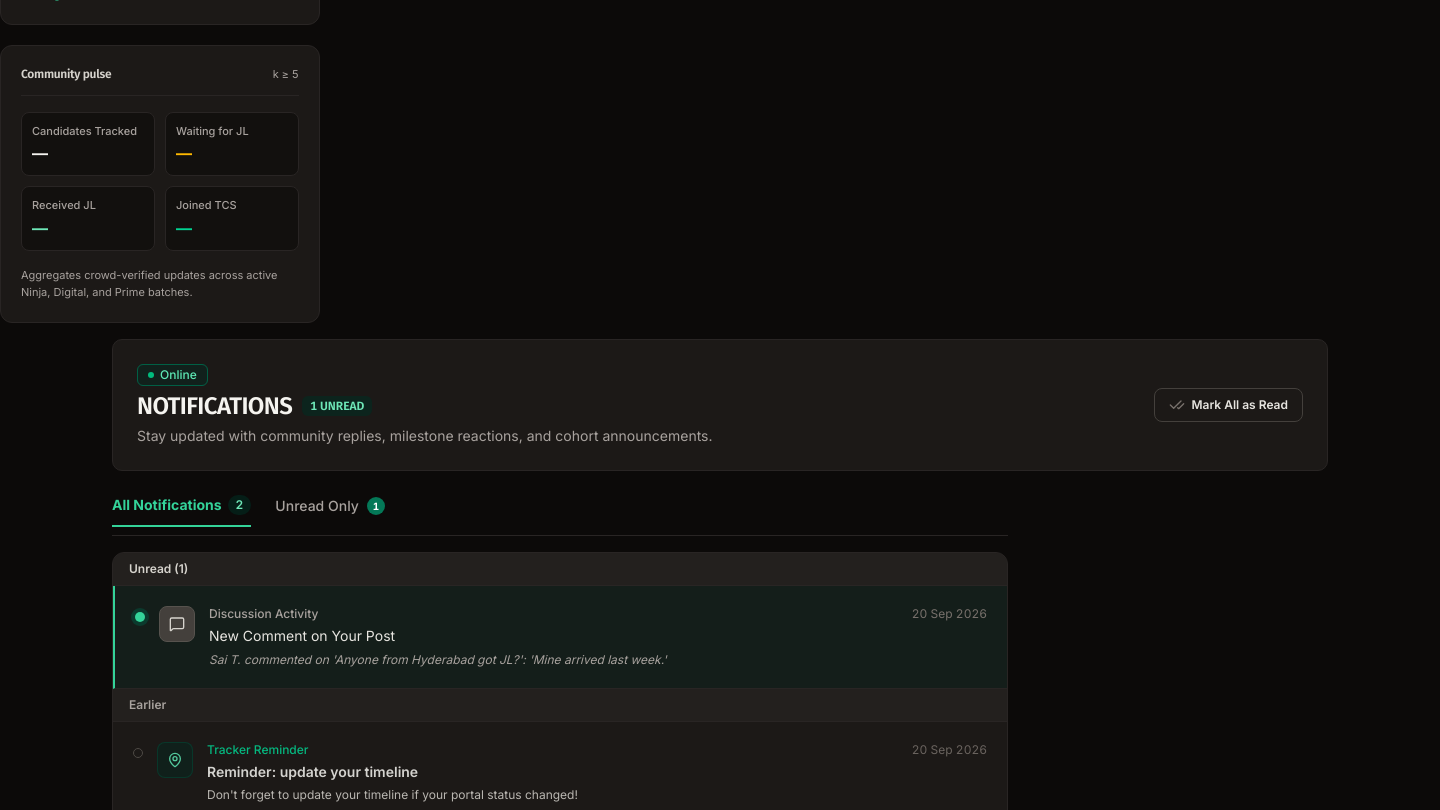
Scenario: §7.10 NotificationsPage (notification_center composition) › restores the count when Mark All as Read fails
(page scrolled)
Click the button with test id "mark-all-read". click: (1229, 405)
box: [1154,388,1303,422]
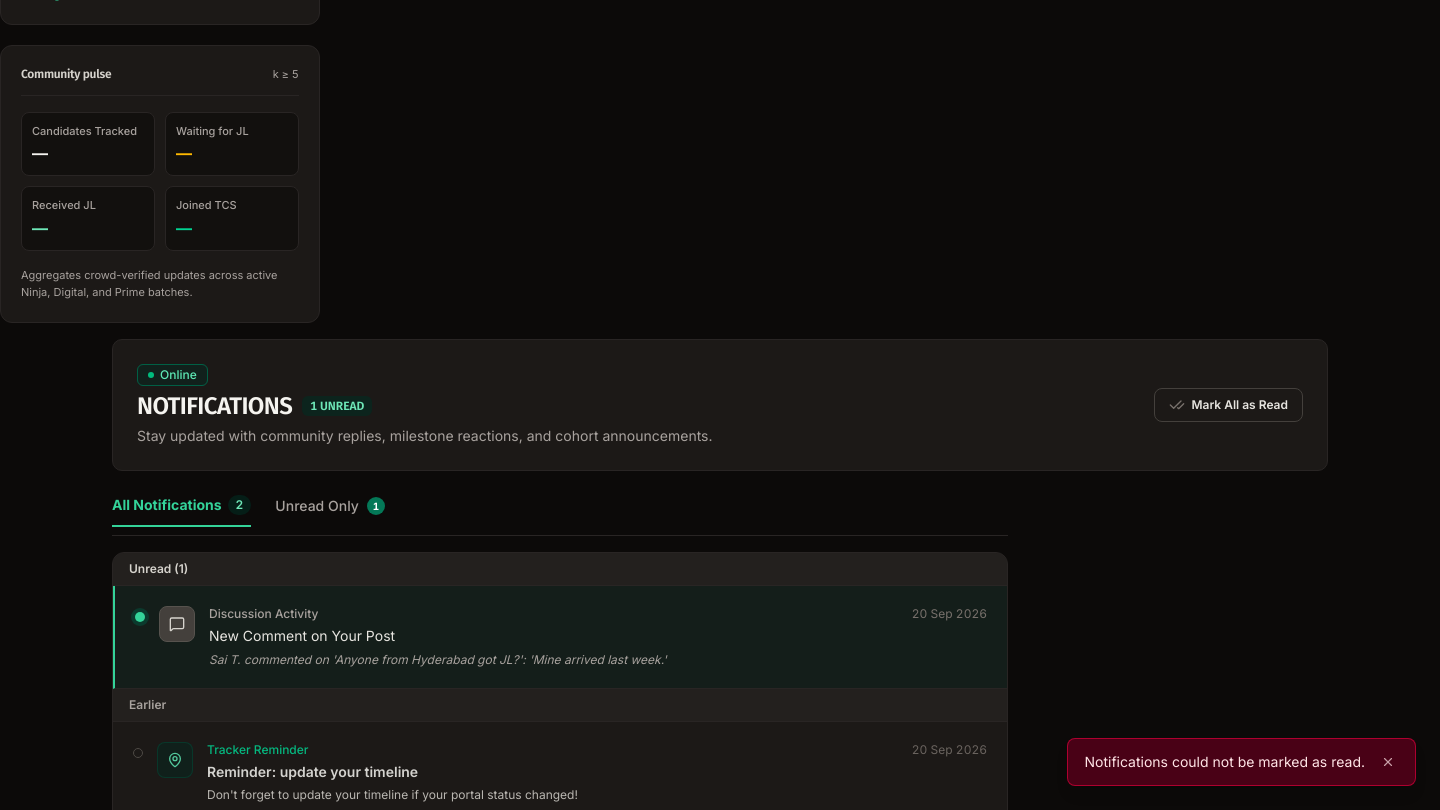
Expected: the element with test id "marker-unread-n1" is shown, [135,612,145,622]
Now the message with test id "toast" reads "Notifications could not be marked as read.", box [1084,753,1365,770]
